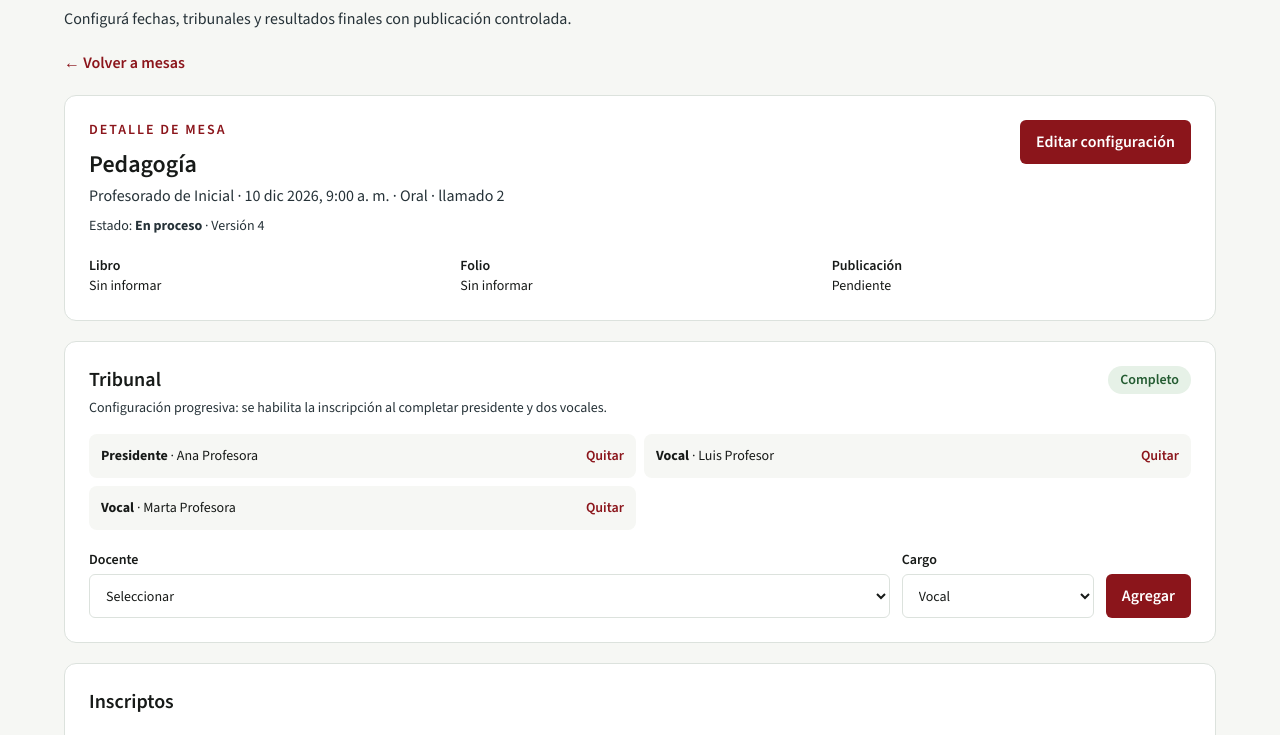
Test: AdminExamsView › refreshes the workspace after tribunal and enrollment conflicts
Select "Docente Nuevo" in the dropdown labelled "Docente" at (489, 596), box [89,574,890,618]
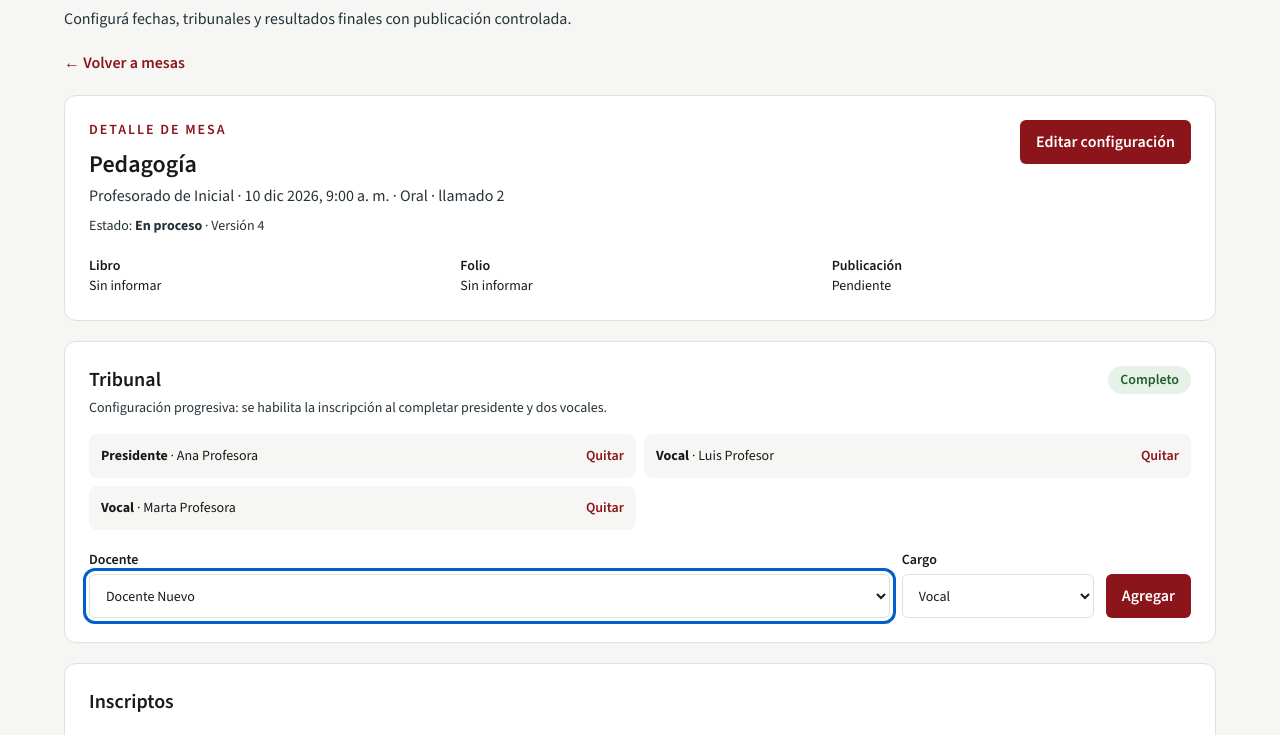
Select "Suplente" in the dropdown labelled "Cargo" at (998, 596), box [902,574,1094,618]
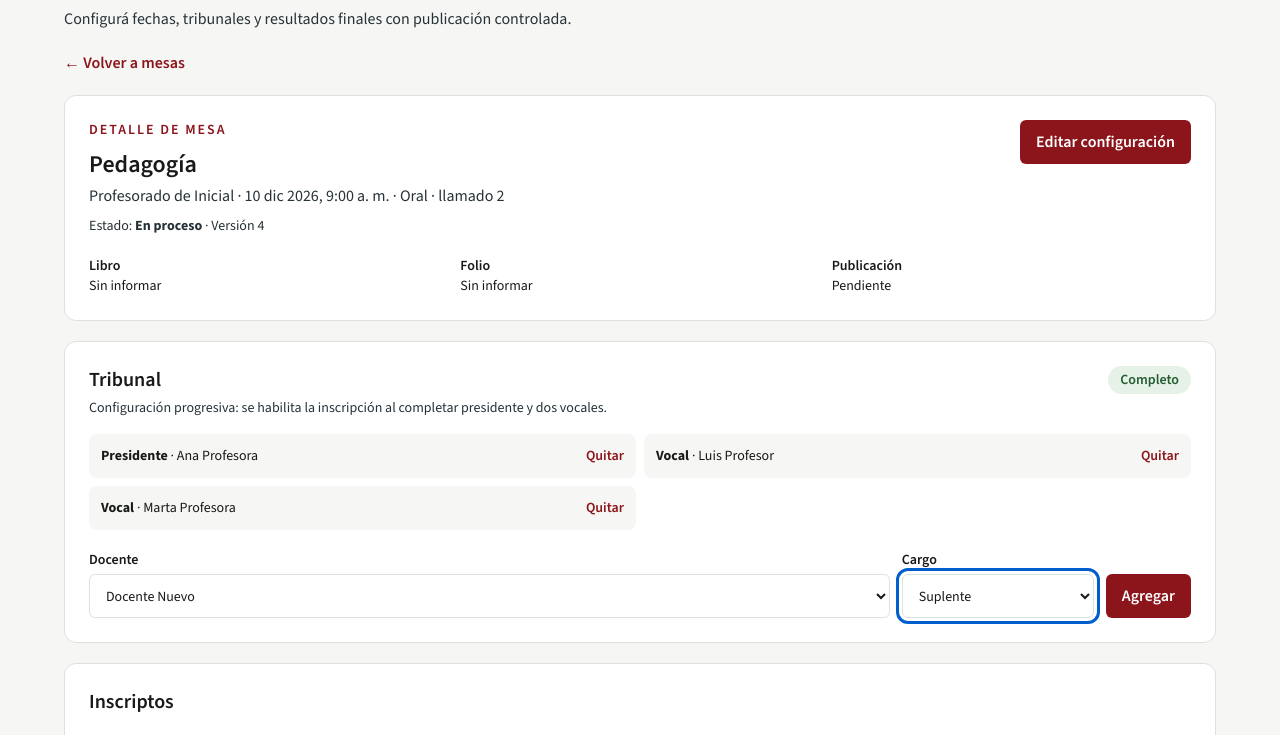
Click the button "Agregar" at (1148, 596), box [1106,574,1191,618]
(page scrolled)
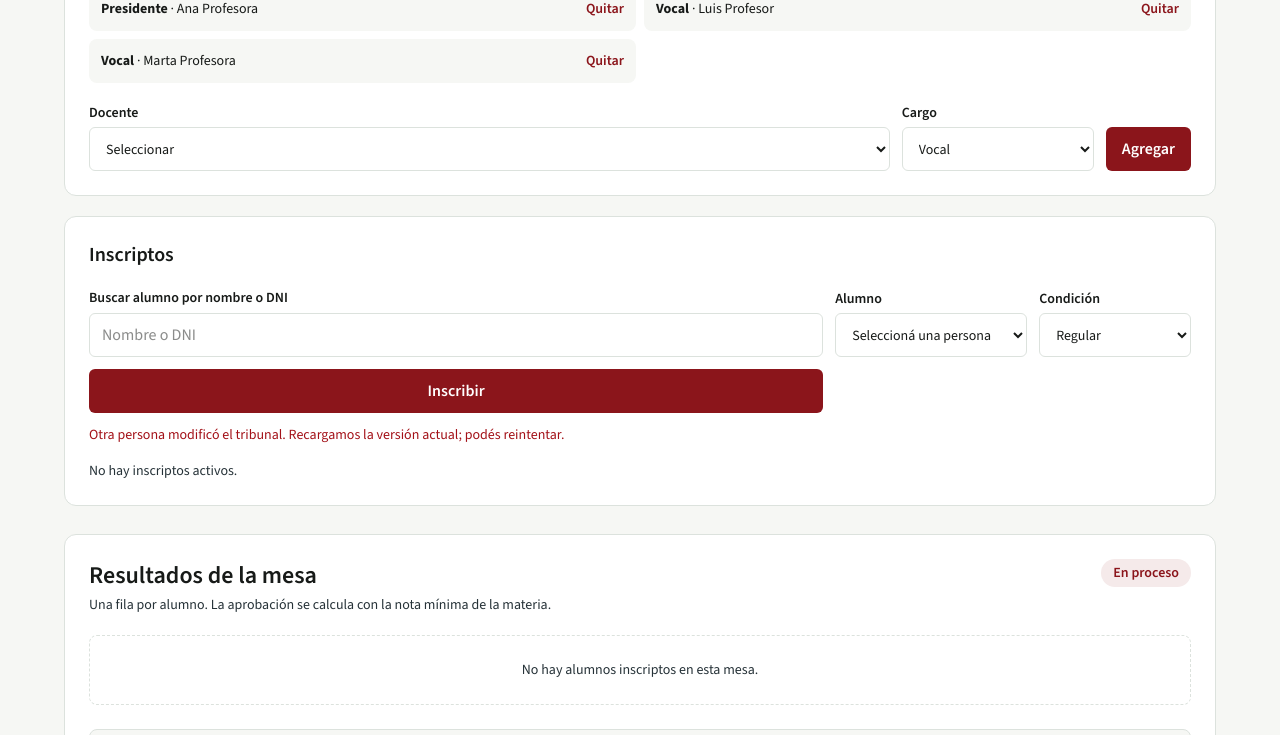
Result: the text "Otra persona modificó el tribunal" is shown at [89,425,564,444]
Type "42666888" into the search field labelled "Buscar alumno por nombre o DNI" at (456, 335), box [89,313,823,357]
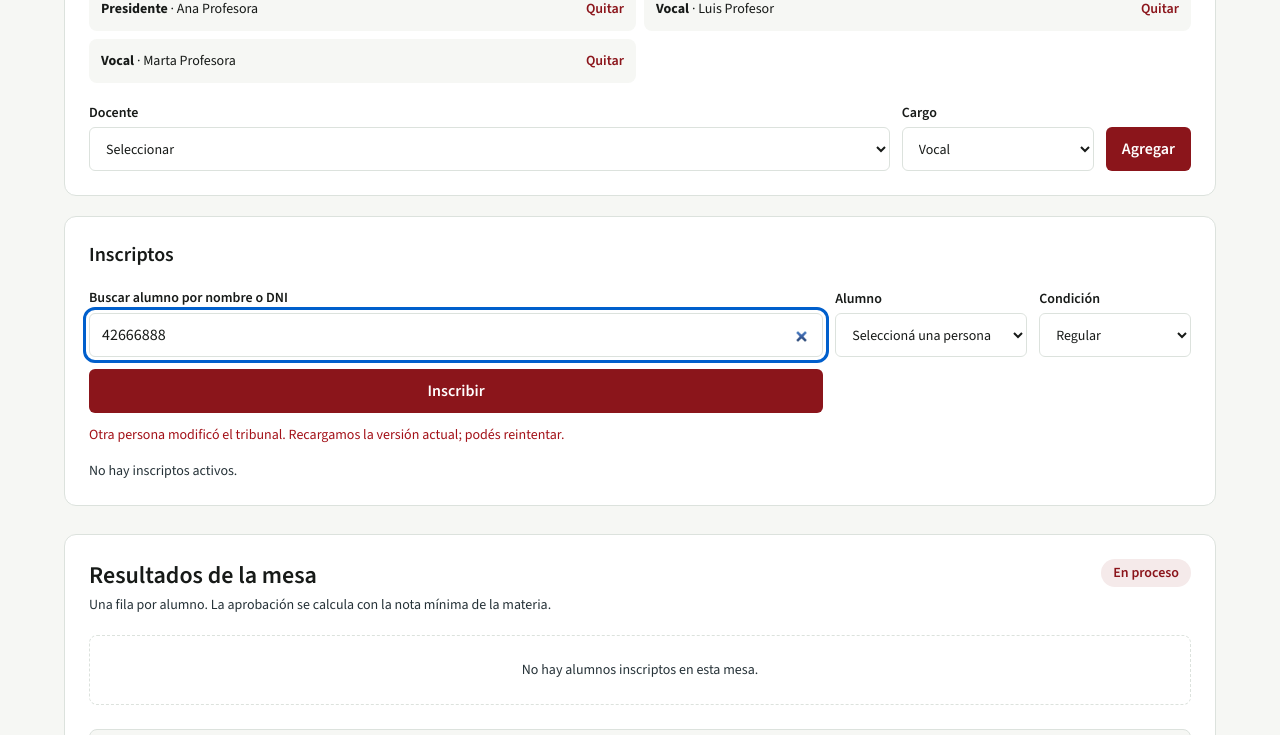
Select "Lucía Fernández · DNI 42666888" in the dropdown labelled "Alumno" at (931, 335), box [835,313,1027,357]
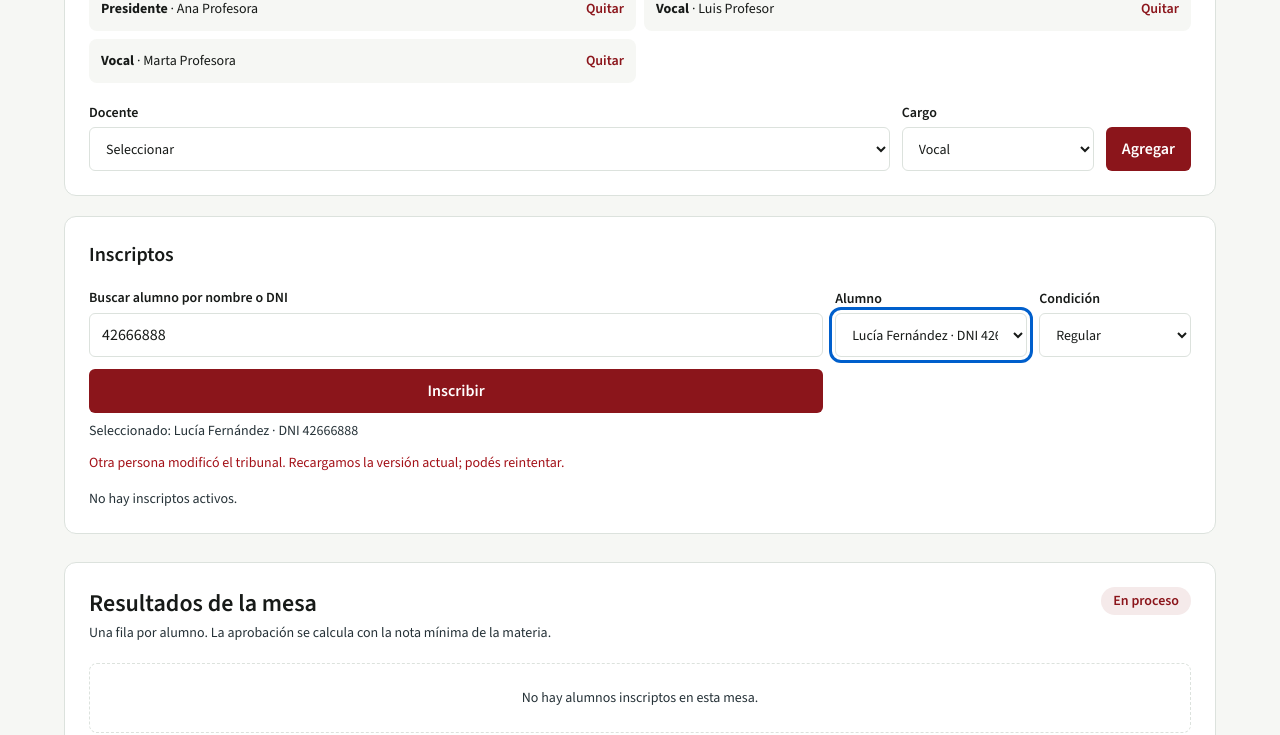
Click the button "Inscribir" at (456, 391), box [89,369,823,413]
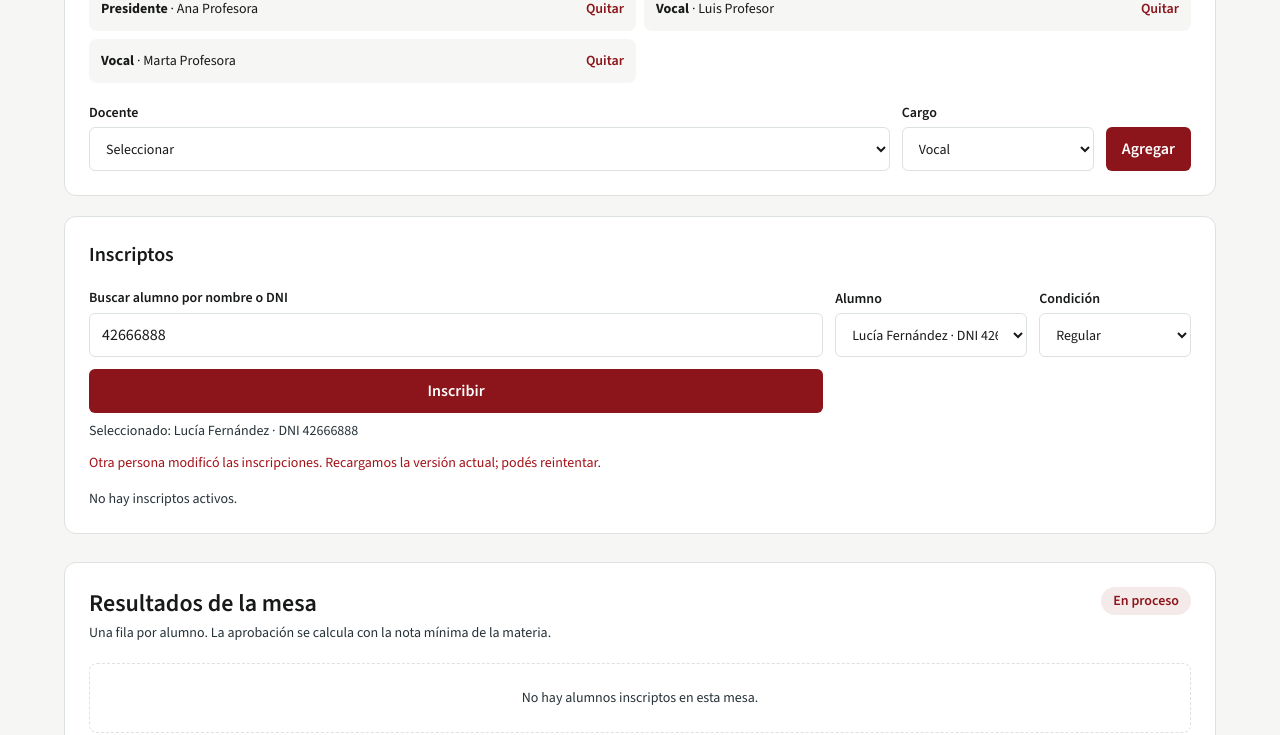
Result: the text "Otra persona modificó las inscripciones" is shown at [89,453,601,472]
